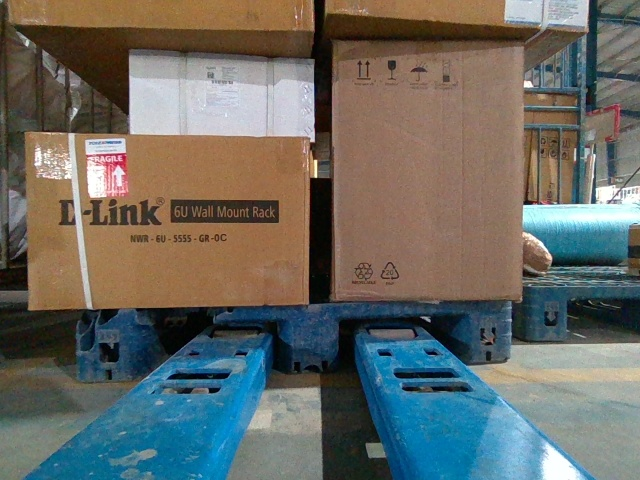block: (76, 310, 152, 382), (284, 303, 341, 373), (471, 301, 512, 365), (528, 288, 568, 341)
front: (78, 301, 512, 381)
hole pallet: (147, 316, 288, 372), (336, 314, 470, 369), (567, 301, 639, 338)
